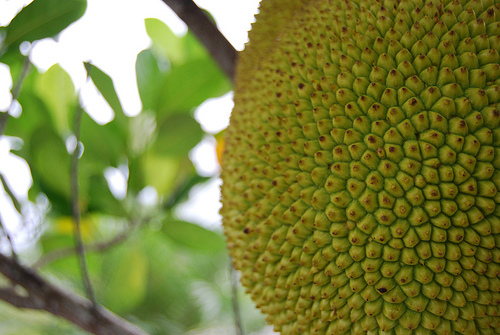jackfruit: (217, 0, 499, 334)
